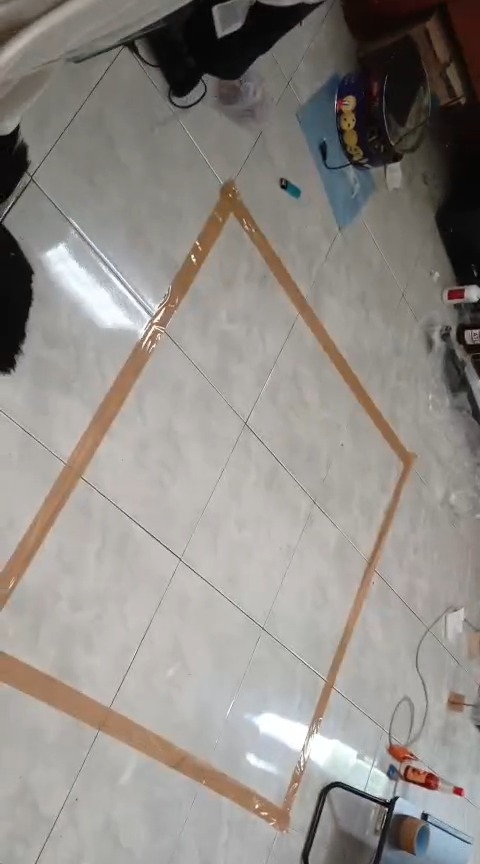floor marking: (0, 183, 415, 829)
